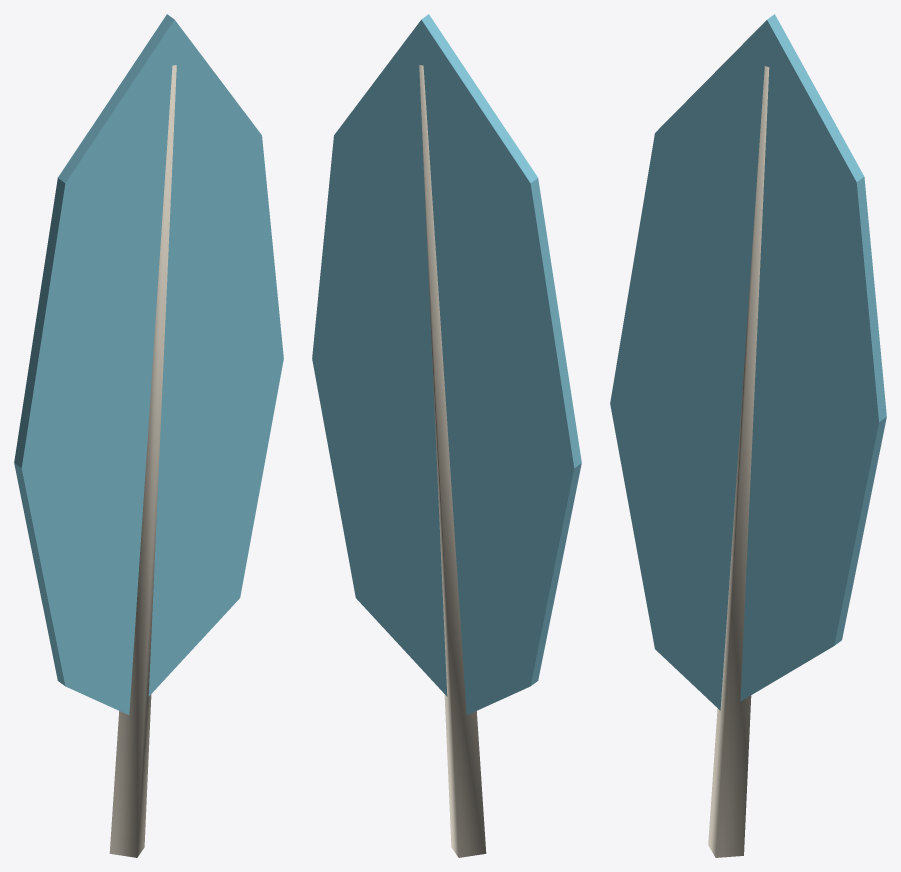
Rendered from shiverthorn.glb.
3 renders of one model, left to right at view 1: azimuth 30°, elevation 25°; view 2: azimuth 150°, elevation 25°; view 3: azimuth 330°, elevation 25°, orthographic. The views are drawn at different scales.
Parts seen in each view (by area): view 1: shiverthorn_v0; view 2: shiverthorn_v0; view 3: shiverthorn_v0.
Boxes of the visible parts, box(x1,y1,x2,y2) form: shiverthorn_v0: box(14, 14, 283, 857); shiverthorn_v0: box(312, 14, 581, 857); shiverthorn_v0: box(610, 14, 886, 857).
Bounding box in the file's own units: 0.12 × 0.3605 × 0.016.
